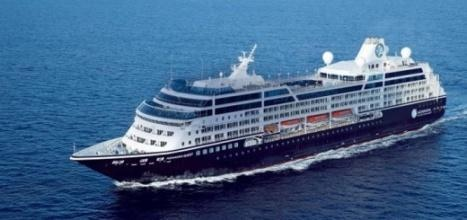youlun: (56, 40, 451, 189)
